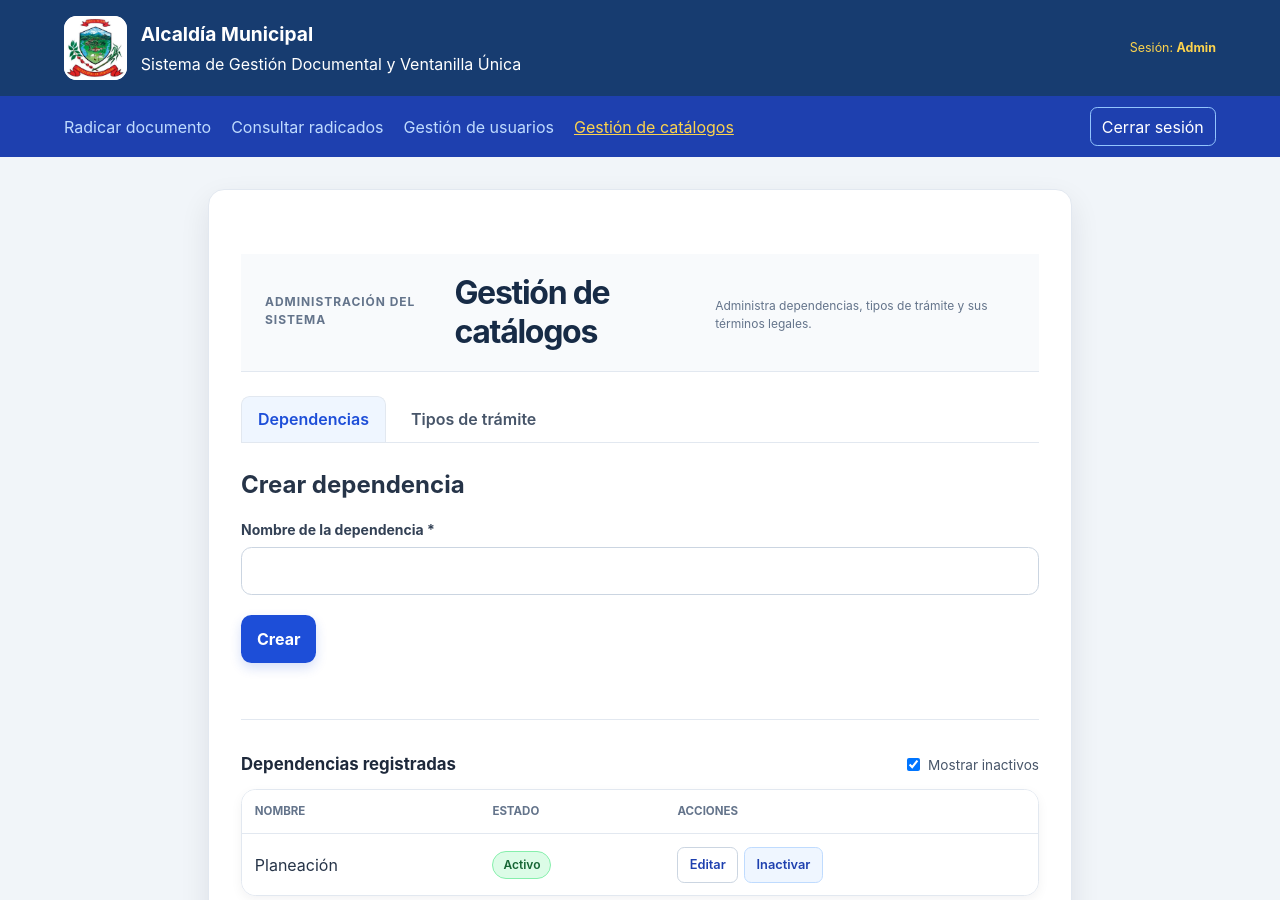
Test: gestión de catálogos React › inactiva la dependencia vía baja lógica y refleja el estado confirmado
This screenshot has width=1280, height=900.
What coordinates should you click on to do the following:
click the button "Inactivar"
I would click on:
 (783, 865)
Its box is [744, 847, 823, 883].
(page scrolled)
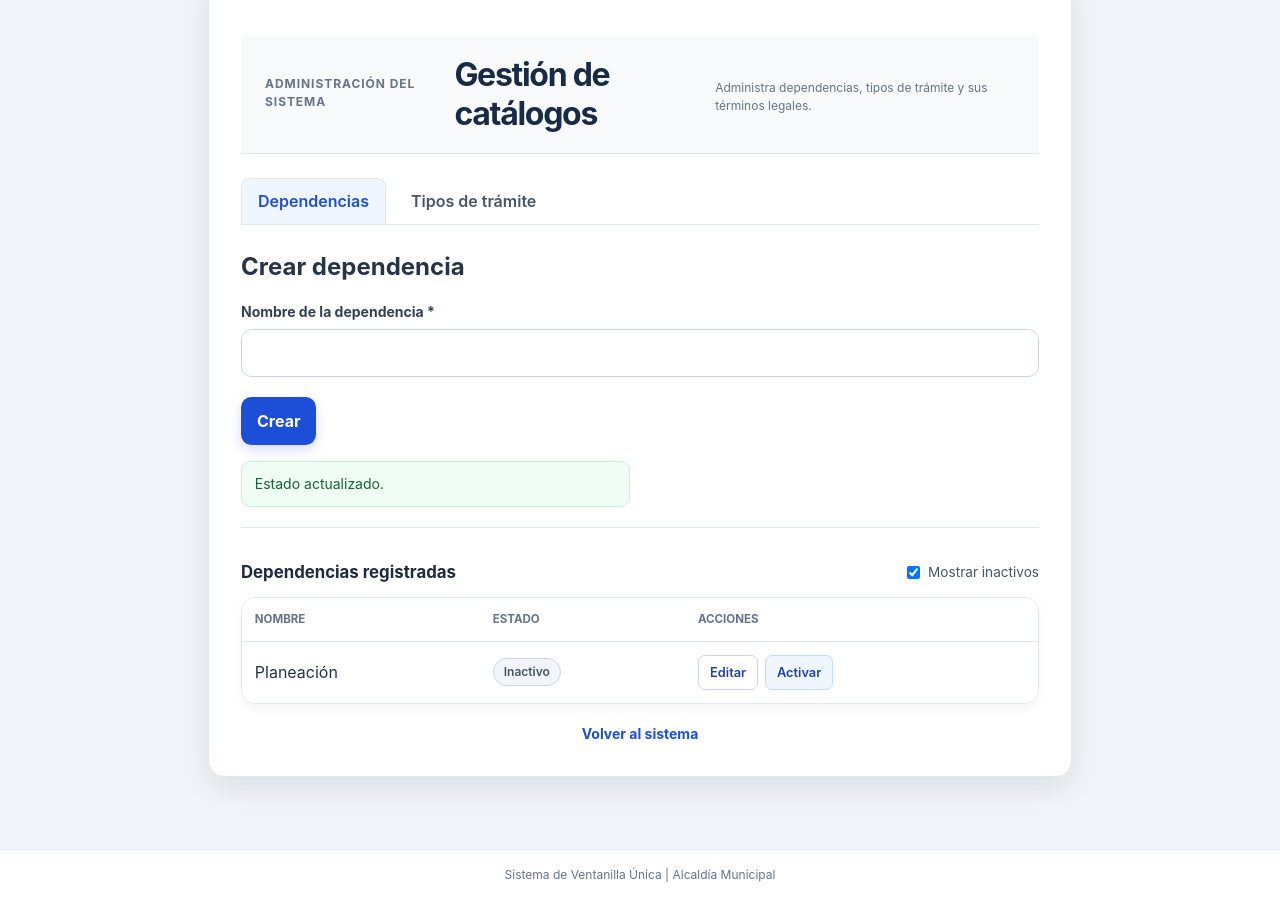
Expected: the text "Inactivo" is shown, [493, 658, 561, 686]
